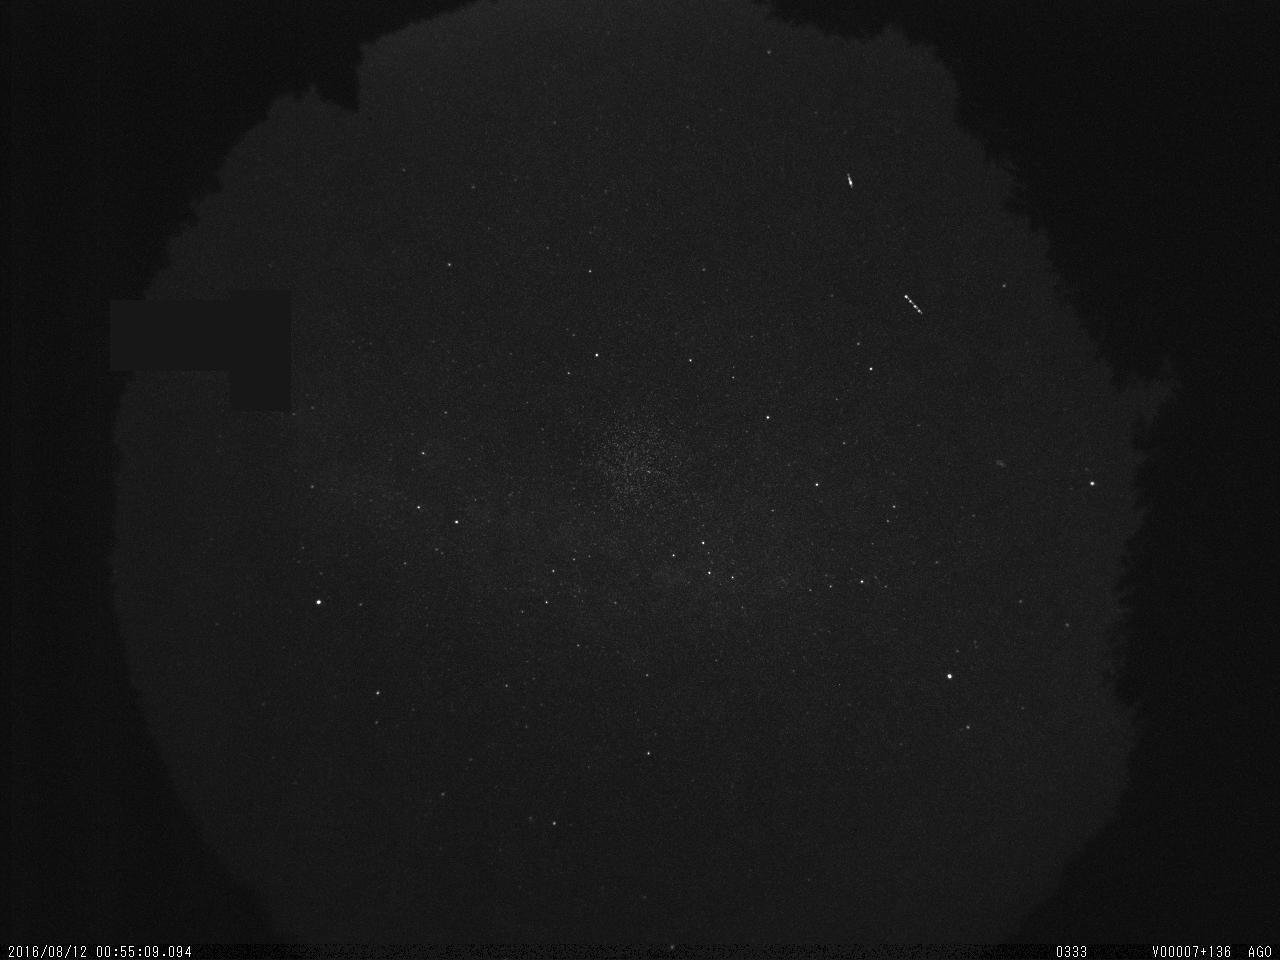Meteor: (842, 164, 860, 199)
